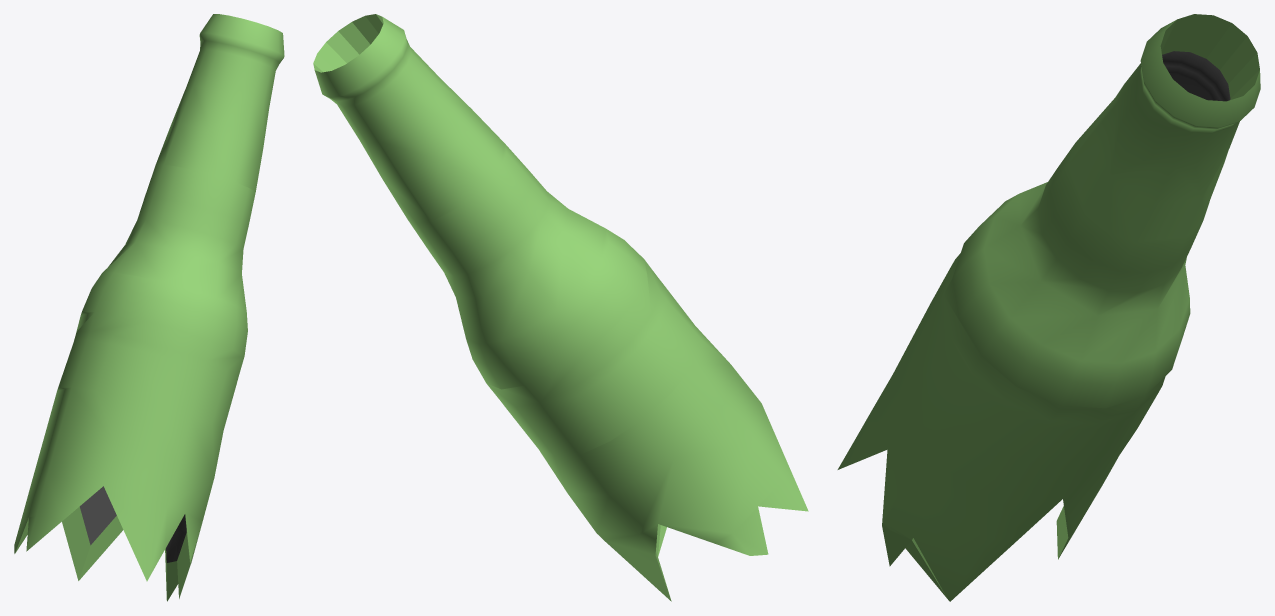
The model's file is M_3_brokenbottle2.fbx.
The picture shows the model from 3 angles, left to right: view 1: azimuth 30°, elevation 25°; view 2: azimuth 150°, elevation 25°; view 3: azimuth 270°, elevation 25°; orthographic projection. The views are drawn at different scales.
Parts seen in each view (by area): view 1: beer1:revolvedSurface1; view 2: beer1:revolvedSurface1; view 3: beer1:revolvedSurface1.
Boxes of the visible parts, x1=… form: beer1:revolvedSurface1: x1=14, y1=14, x2=284, y2=601; beer1:revolvedSurface1: x1=313, y1=14, x2=808, y2=601; beer1:revolvedSurface1: x1=837, y1=14, x2=1260, y2=601.
Size of the model in its own units: 3.02 by 4.18 by 2.32.
